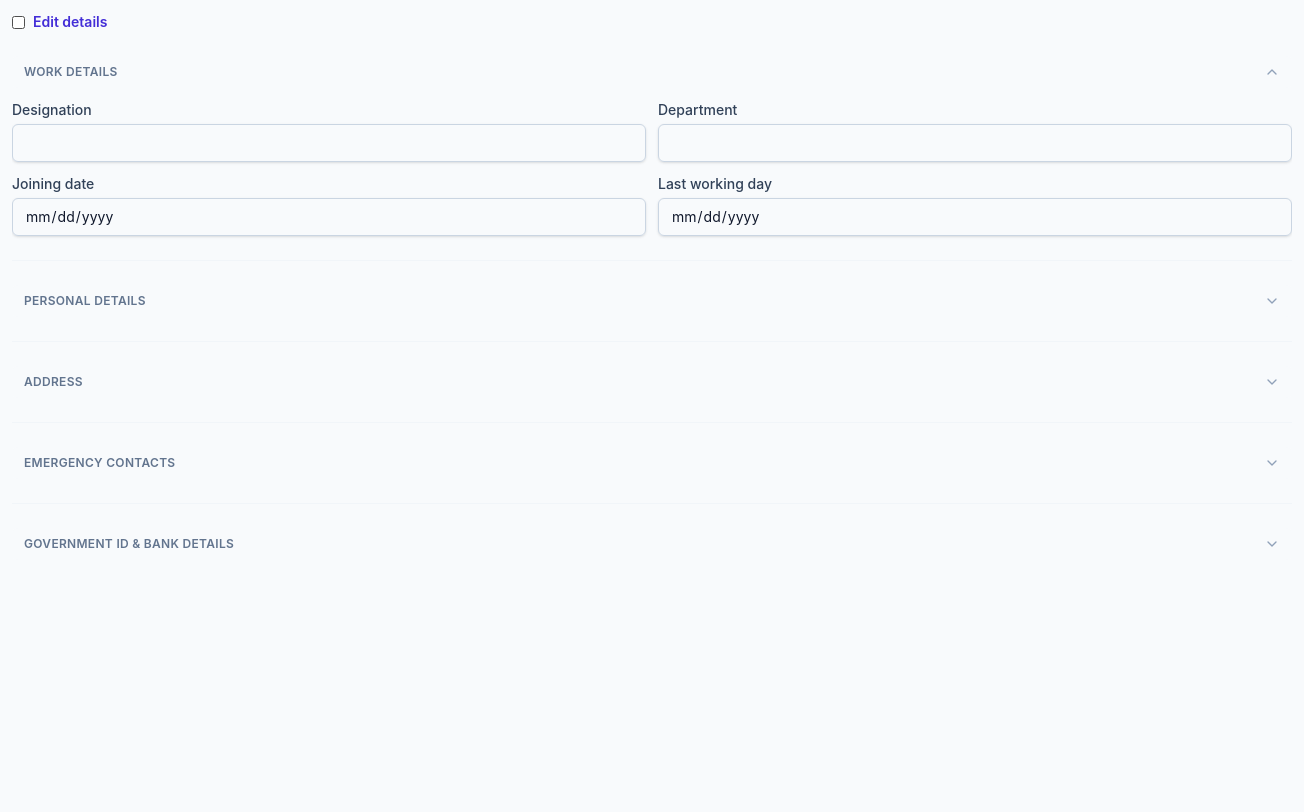
Test: ProfileForm › opens read-only, with fields disabled and no Save button, until Edit details is checked
Expected: the field labelled "Designation" is disabled, 12,124 -> 646,162
Expected: the button "save changes" is not shown
Click the checkbox labelled "Edit details" at (18, 22), box 12,16 -> 25,28
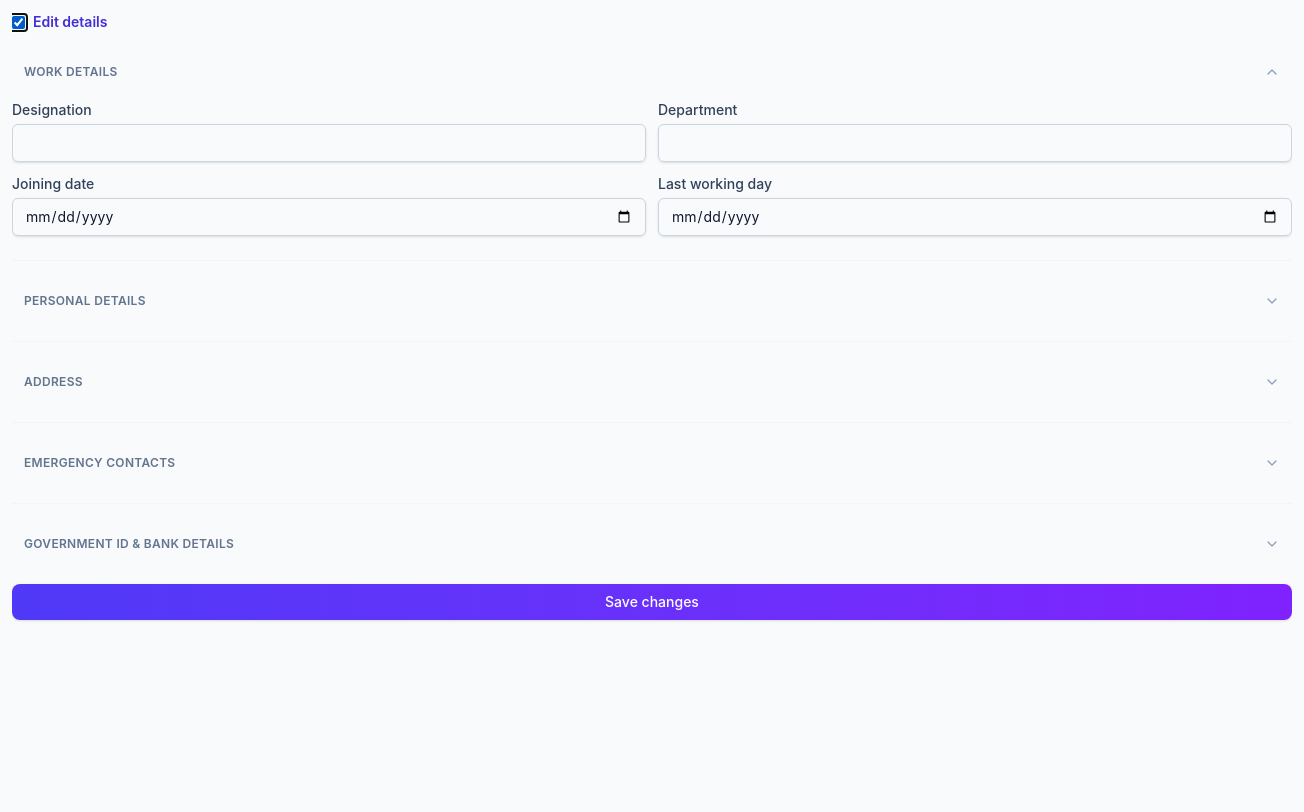
Expected: the field labelled "Designation" is enabled, 12,124 -> 646,162
Now the button "Save changes" is shown, box 12,584 -> 1292,620
